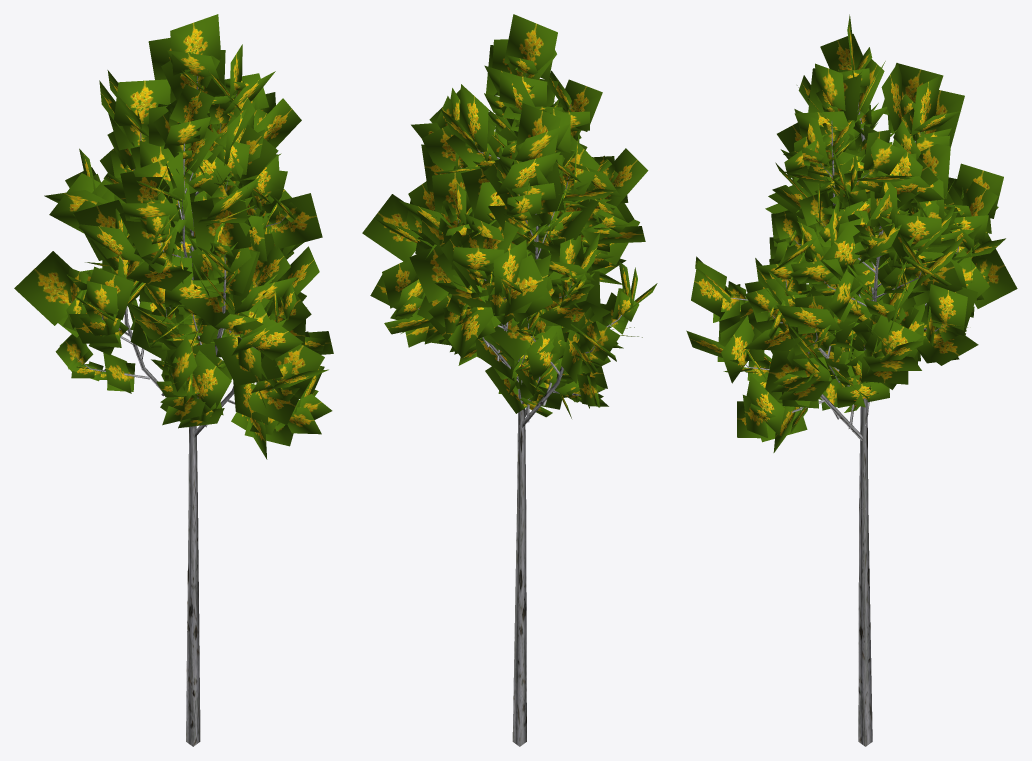
File: birch-lod2.glb
3 views of the same model, side by side, from view 1: azimuth 30°, elevation 25°; view 2: azimuth 150°, elevation 25°; view 3: azimuth 270°, elevation 25° (orthographic).
Parts seen in each view (by area): view 1: leaves, branches; view 2: leaves, branches; view 3: leaves, branches.
Boxes of the visible parts, bbox=[...] form: leaves: bbox=[14, 14, 333, 459]; branches: bbox=[70, 76, 287, 746]; leaves: bbox=[362, 14, 657, 418]; branches: bbox=[418, 74, 621, 746]; leaves: bbox=[686, 14, 1017, 452]; branches: bbox=[731, 102, 982, 746].
Size of the model in its own units: 38.86 by 107 by 44.44.
Materials: 2 (2 with a texture image).
